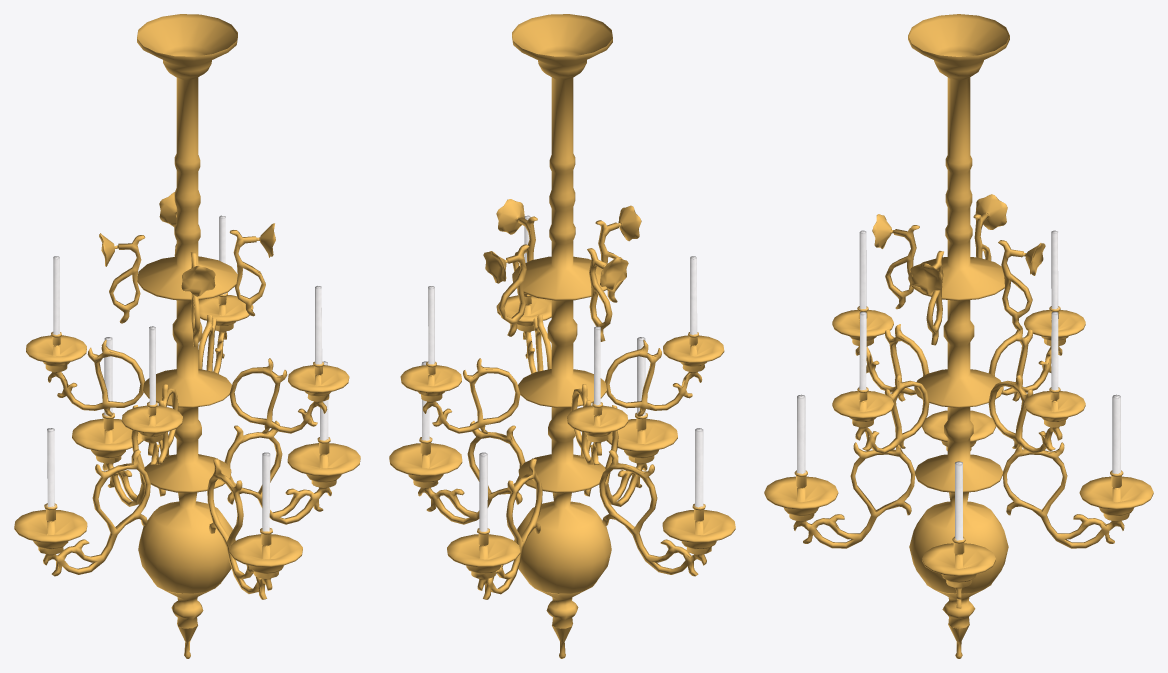
Rendered from chandelier-lowpoly-e7a99b.glb.
3 renders of one model, left to right at view 1: azimuth 30°, elevation 25°; view 2: azimuth 150°, elevation 25°; view 3: azimuth 270°, elevation 25°, orthographic.
Visible parts, largest first — view 1: PropMesh; view 2: PropMesh; view 3: PropMesh.
Boxes of the visible parts, x1,y1,x2,y2 form: PropMesh: (14,14,360,658); PropMesh: (389,14,735,658); PropMesh: (764,14,1153,658).
Size of the model in its own units: 0.8487 by 1.5 by 0.8487.
Materials: 1 (1 with a texture image).
